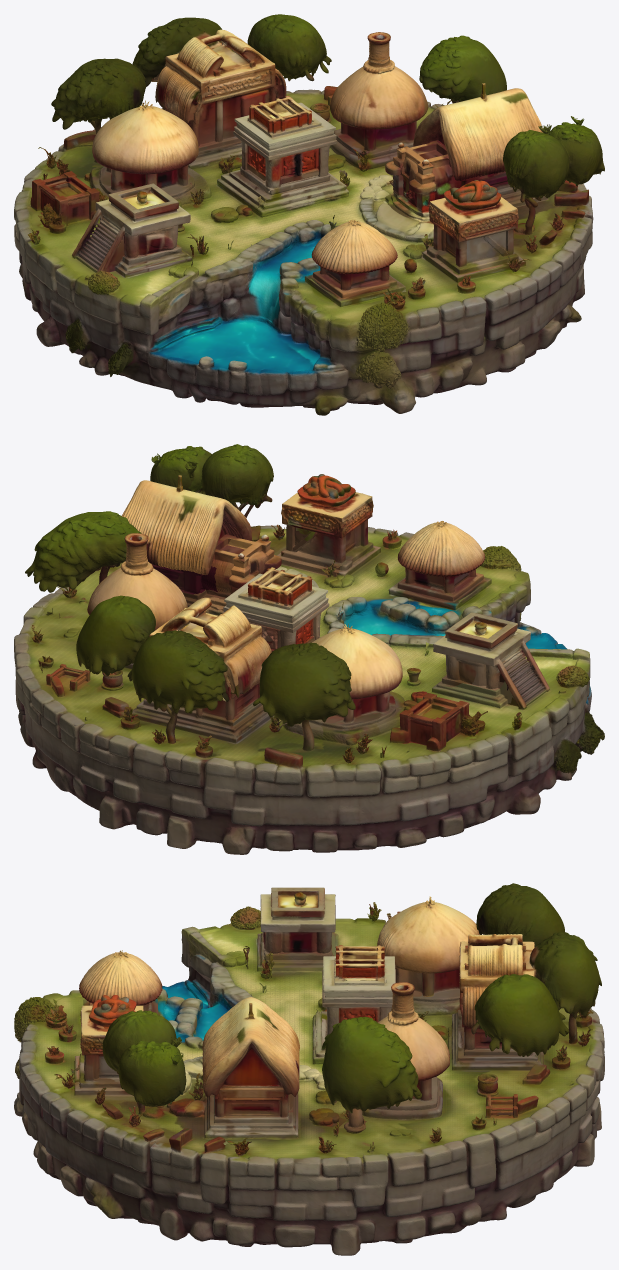
Rendered from city_level1 2.glb.
The picture shows the model from 3 angles, top to bottom: view 1: azimuth 30°, elevation 25°; view 2: azimuth 150°, elevation 25°; view 3: azimuth 270°, elevation 25°; orthographic projection. The views are drawn at different scales.
Size of the model in its own units: 1.8 by 0.7018 by 1.81.
Materials: 1 (1 with a texture image).
